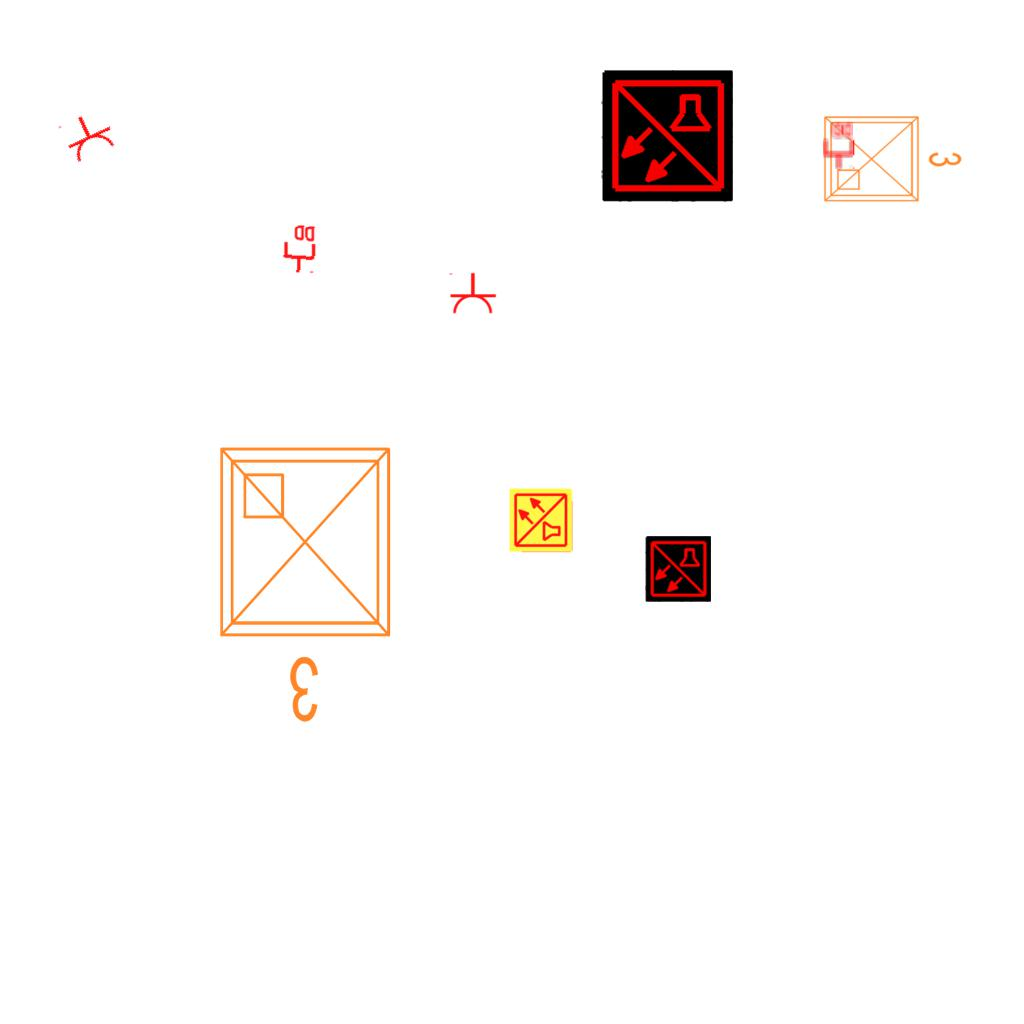Datenanschluss_zweifach: (280, 221, 318, 276), (821, 120, 855, 171)
Einbaudownlights_LED_Konferenzraeume: (205, 433, 413, 733), (817, 105, 967, 209)
OKW_Multisensormelder_(Kombination_optischer_Rauch-Kahlenmonoxid_Waerme-Melder): (601, 70, 733, 202), (508, 487, 574, 553), (645, 536, 711, 602)
Schukosteckdose_einfach: (55, 105, 120, 167), (447, 272, 497, 315)
